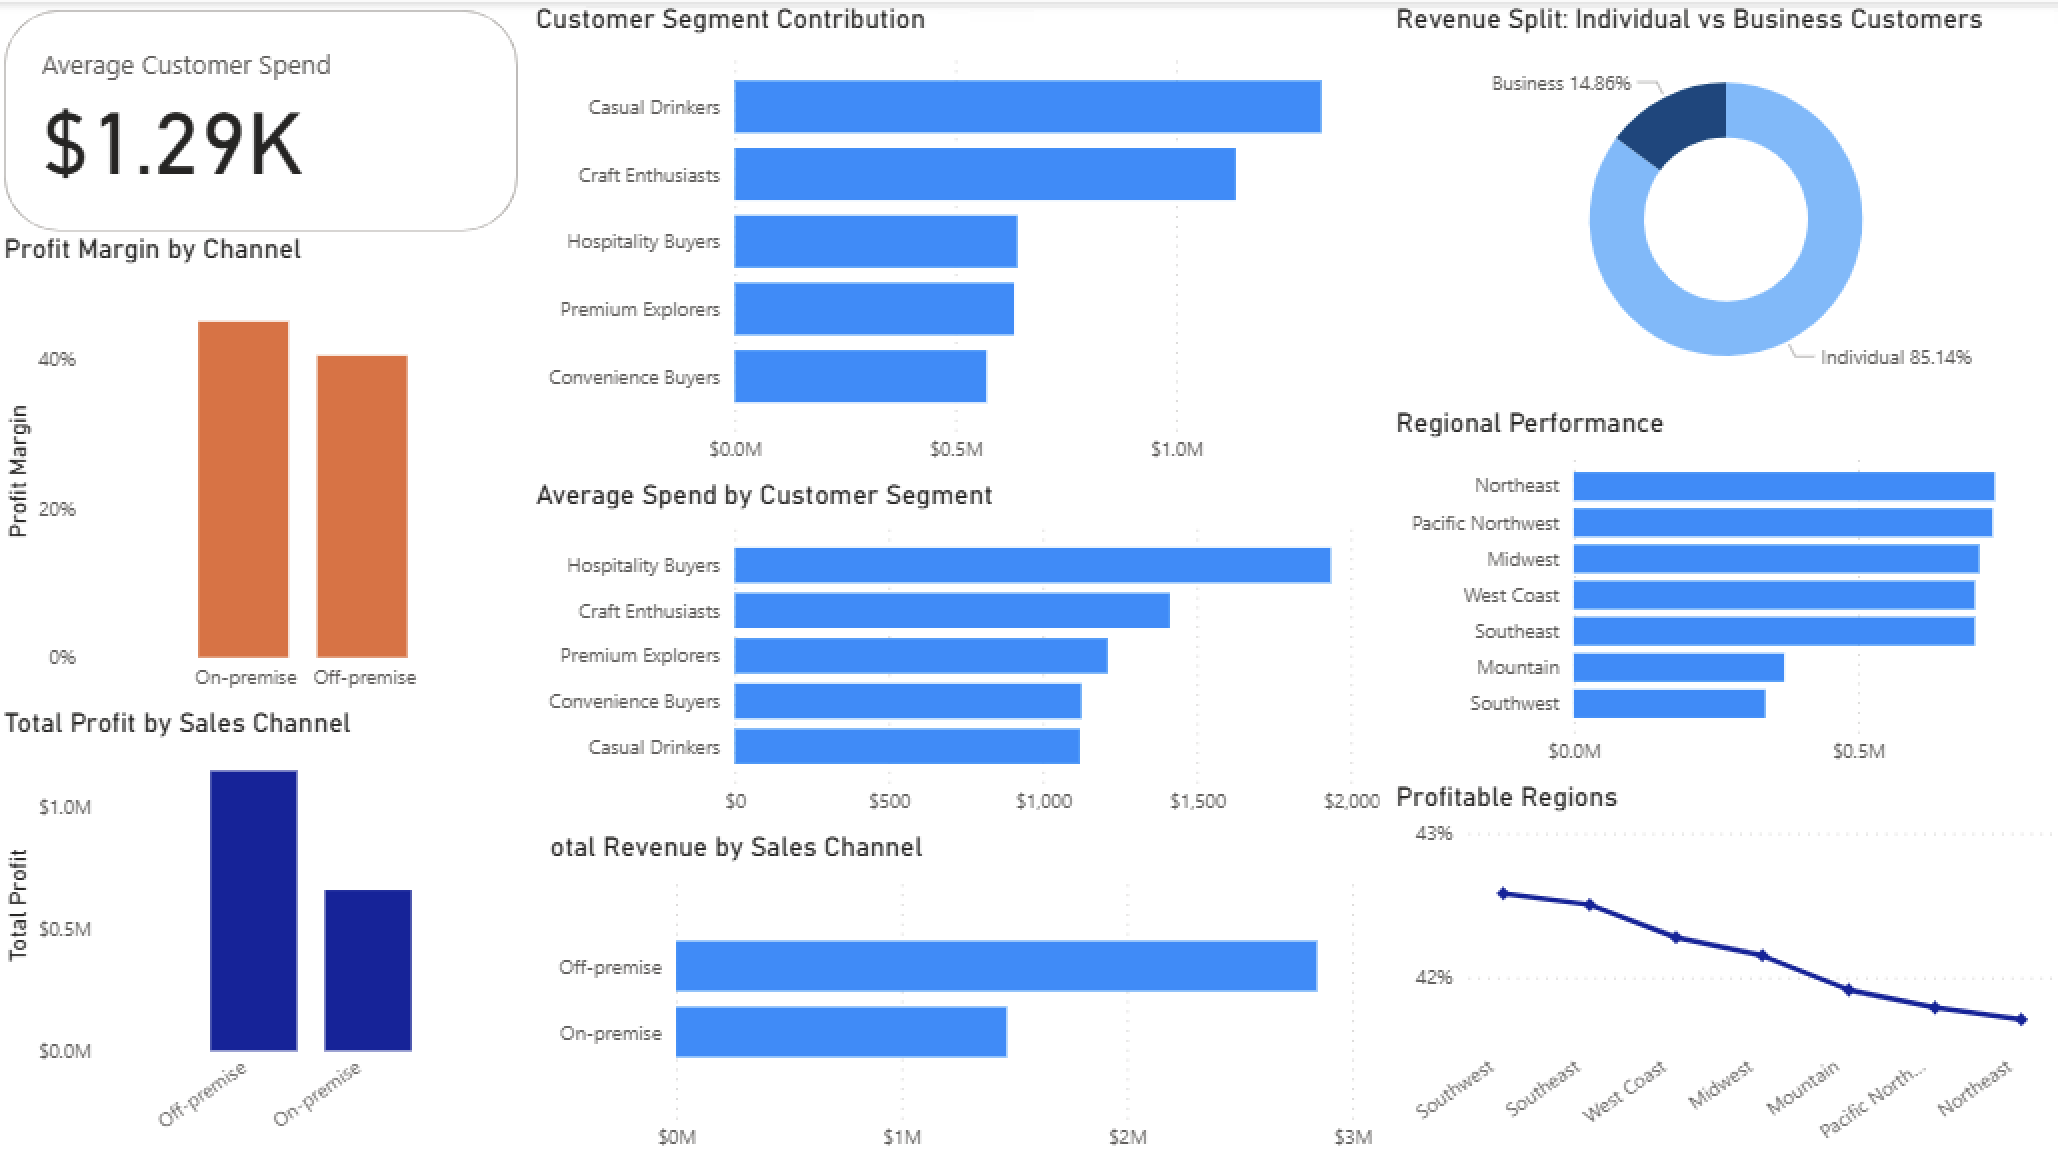

The page's visual inventory and layout, read from the dashboard file:
{"tool":"powerbi","page":{"name":"Channel & Customer","canvas":[1280,720],"ordinal":1},"visuals":[{"type":"barChart","title":"otal Revenue by Sales Channel","fields":{"Category":["Channel_Data.channel_type"],"Y":["Transaction_Data.Total Revenue"]},"box":[337.9,512.5,523.6,208],"z":0},{"type":"columnChart","title":"Total Profit by Sales Channel","fields":{"Y":["Transaction_Data.Total Profit"],"Category":["Channel_Data.channel_type"]},"box":[0,435.6,328.9,284.4],"z":1000},{"type":"barChart","title":"Customer Segment Contribution","fields":{"Category":["Customer_Data.customer_segment"],"Y":["Transaction_Data.Total Revenue"]},"box":[329.3,0,532.3,294.6],"z":2000},{"type":"donutChart","title":"Revenue Split: Individual vs Business Customers","fields":{"Category":["Customer_Data.customer_type"],"Y":["Transaction_Data.Total Revenue"]},"box":[861.6,0,418.4,250.1],"z":3000},{"type":"cardVisual","title":"Average Customer Spend ($)","fields":{"Data":["Transaction_Data.Avg Revenue per Customer"]},"box":[0,0,328.9,147.8],"z":4000},{"type":"barChart","title":"Average Spend by Customer Segment","fields":{"Y":["Transaction_Data.Avg Revenue per Customer"],"Category":["Customer_Data.customer_segment"]},"box":[329.3,294.6,532.3,217.9],"z":5000},{"type":"columnChart","title":"Profit Margin by Channel","fields":{"Category":["Channel_Data.channel_type"],"Y":["Transaction_Data.Profit Margin"]},"box":[0,142.2,328.9,293.3],"z":6000},{"type":"barChart","title":"Regional Performance","fields":{"Y":["Transaction_Data.Total Revenue"],"Category":["Region_Data.region_name"]},"box":[861.6,250.1,418.4,231.5],"z":7000},{"type":"lineChart","title":"Profitable Regions","fields":{"Category":["Region_Data.region_name"],"Y":["Transaction_Data.Profit Margin"]},"box":[861.6,481.5,418.4,238.9],"z":8000}]}

Visuals, with their boxes in screenshot pixels (x1, y1, x2, y2), scaled from the page's 1280x720 canvas onto the 2058x1162 screenshot:
"otal Revenue by Sales Channel" barChart: detection(543, 827, 1385, 1161)
"Total Profit by Sales Channel" columnChart: detection(0, 703, 529, 1161)
"Customer Segment Contribution" barChart: detection(529, 0, 1385, 475)
"Revenue Split: Individual vs Business Customers" donutChart: detection(1385, 0, 2057, 404)
"Average Customer Spend ($)" cardVisual: detection(0, 0, 529, 239)
"Average Spend by Customer Segment" barChart: detection(529, 475, 1385, 827)
"Profit Margin by Channel" columnChart: detection(0, 229, 529, 703)
"Regional Performance" barChart: detection(1385, 404, 2057, 777)
"Profitable Regions" lineChart: detection(1385, 777, 2057, 1161)
